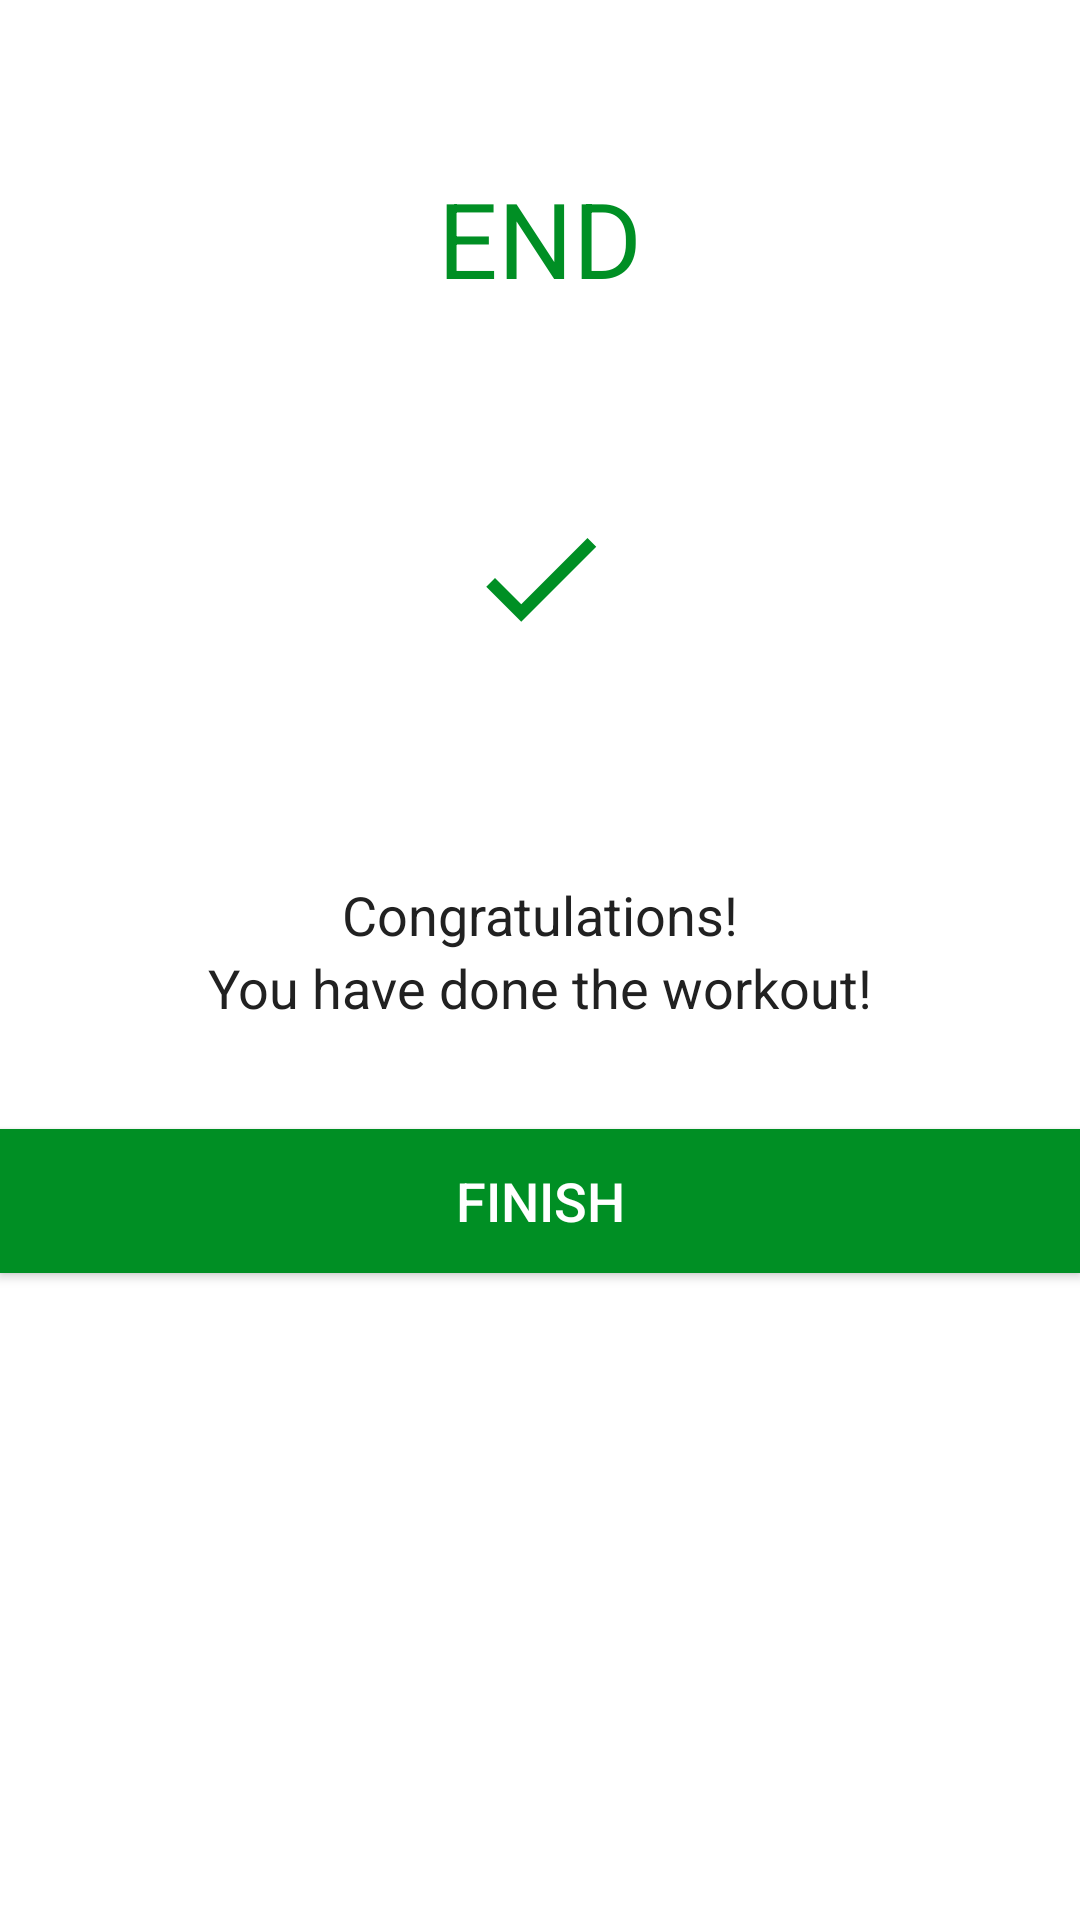

Screen size 1080 x 1920. Icon name, then its box in pixels as {"x1": x1, "y1": y1, "x2": x2, "y2": y2}:
done: {"x1": 486, "y1": 538, "x2": 596, "y2": 622}
